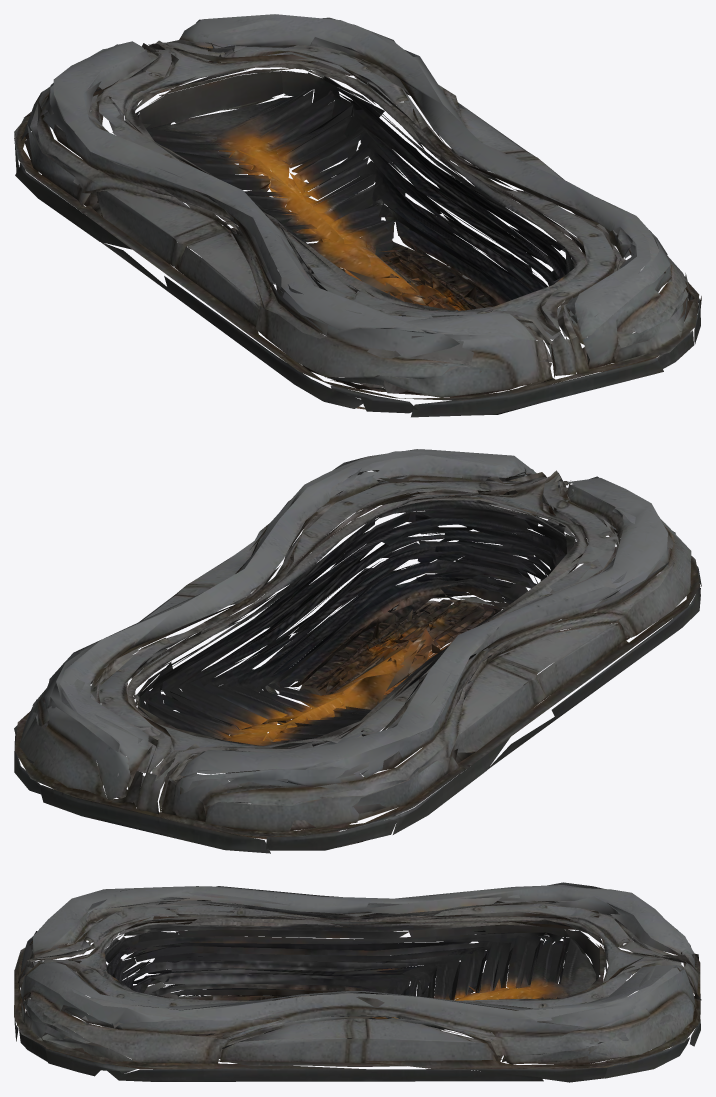
File: life_vulval_drain_sump.glb
3 views of the same model, one above another, from view 1: azimuth 30°, elevation 25°; view 2: azimuth 150°, elevation 25°; view 3: azimuth 270°, elevation 25° (orthographic). The views are drawn at different scales.
Parts seen in each view (by area): view 1: node_0; view 2: node_0; view 3: node_0.
Part boxes in pixels (x1,y1,x2,y2): node_0: [14, 14, 701, 417]; node_0: [14, 449, 701, 853]; node_0: [14, 882, 701, 1082].
Bounding box in the file's own units: 0.6277 × 0.1689 × 1.18.
1 material, 1 textured.
